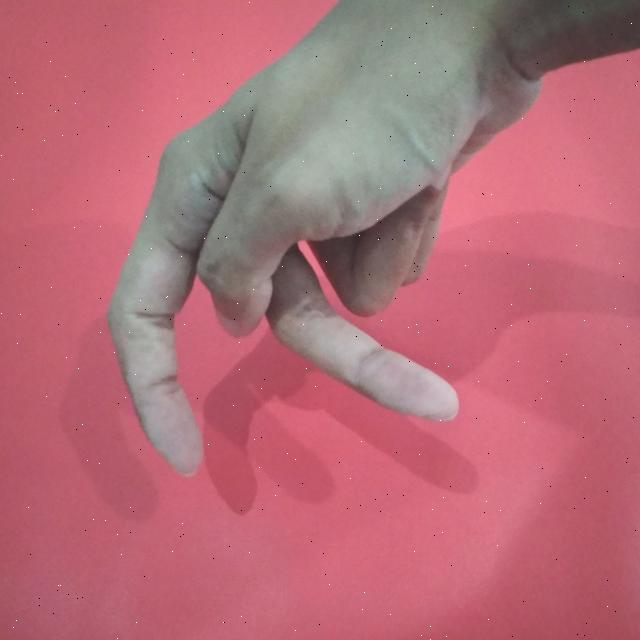P: (86, 0, 620, 483)
